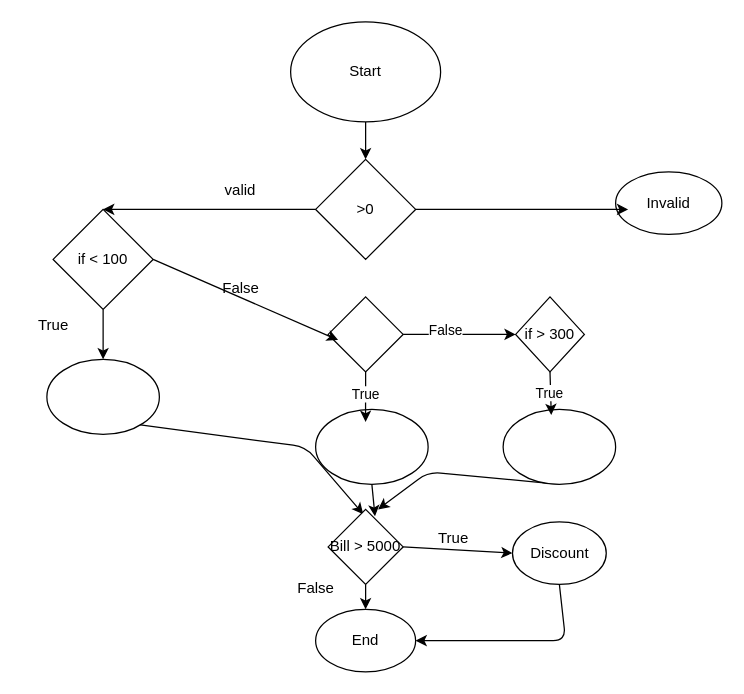
The diagram is 744 pixels wide and 694 high, and some of its shapes have lost their labels. The shapes that lost their labels are listed below. From the top down, each one's box as (x1, y1, x2, y2) in pixels, then its label:
(327, 296, 403, 372): if < 300
(46, 358, 159, 434): units*5
(314, 408, 428, 484): units*7
(502, 408, 616, 484): units*10
